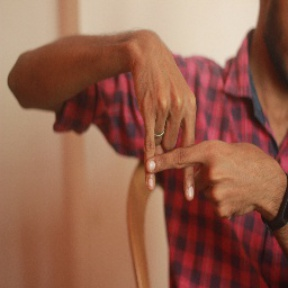H: (112, 91, 223, 208)
